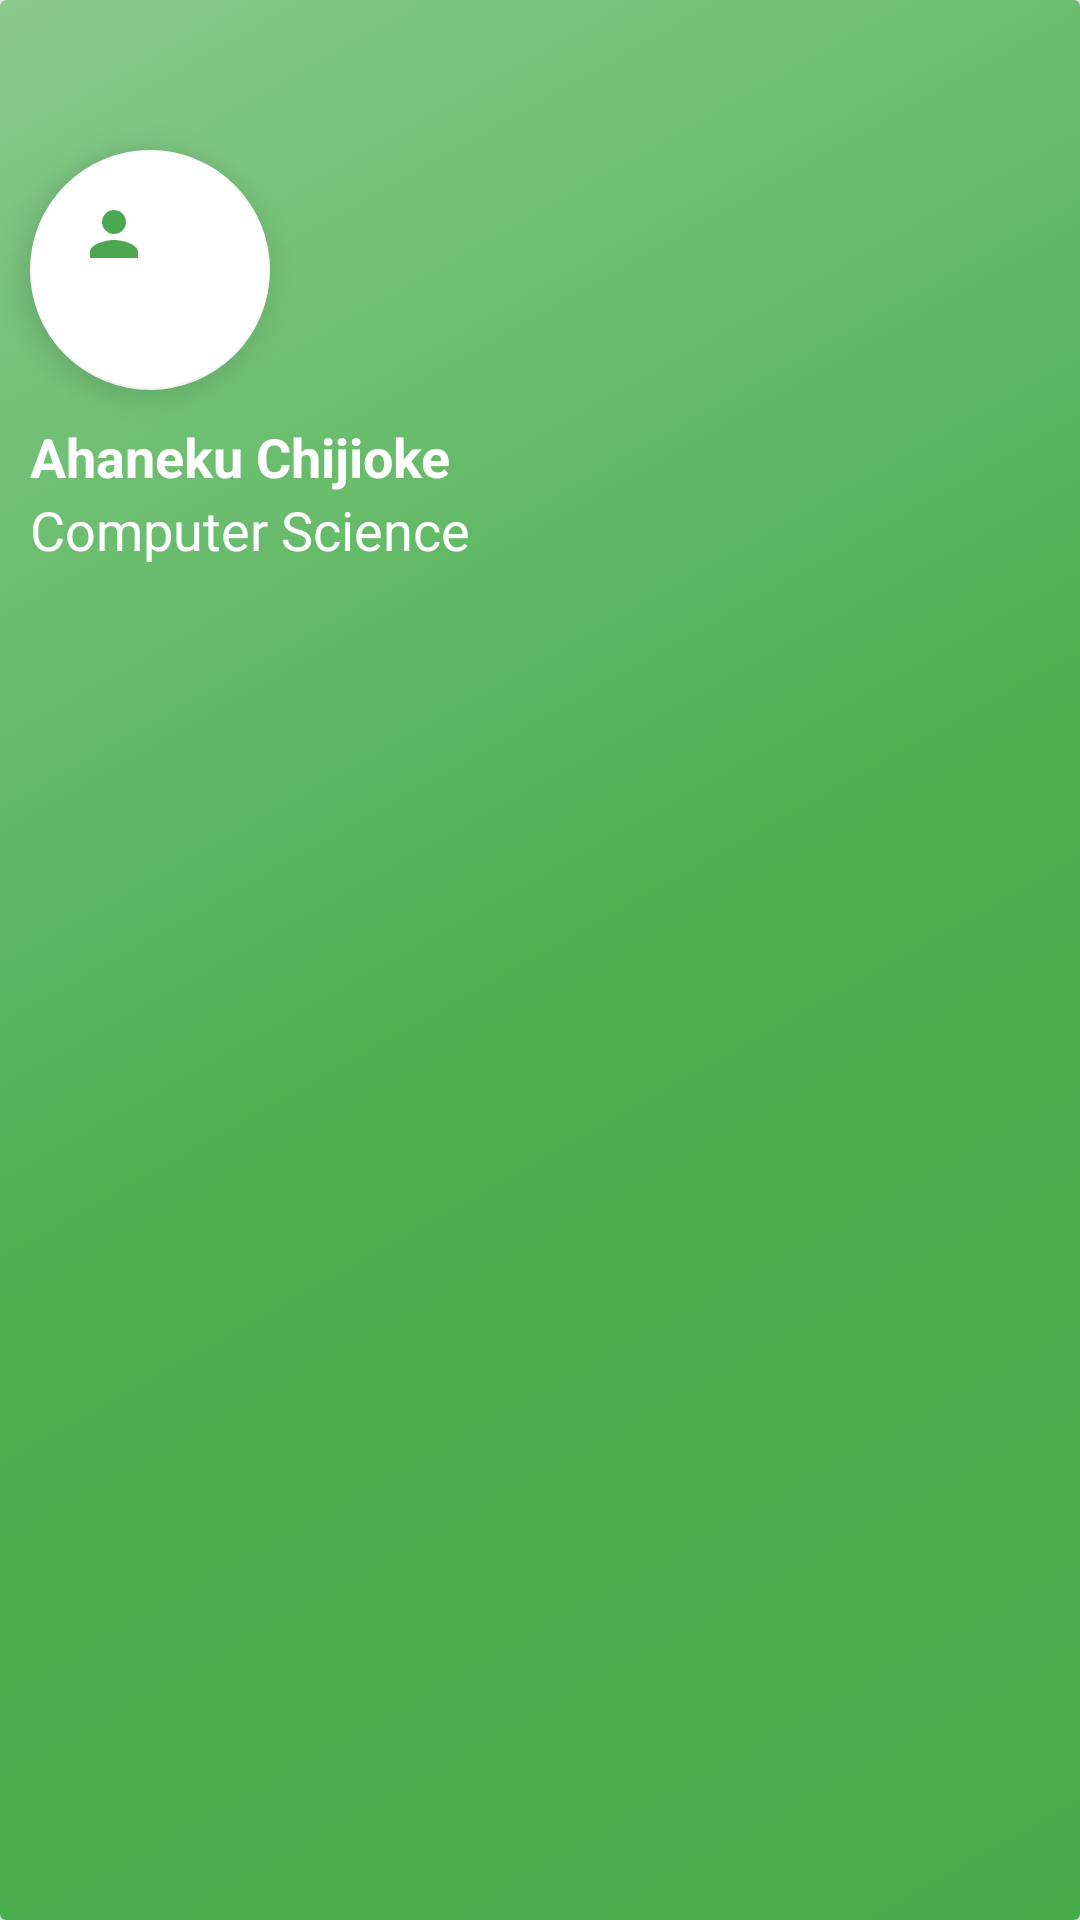

Locate icon controls on the screen. Image size 1080px x 1920px, boxes as (x1, y1, x2, y2).
user Image: (30, 150, 270, 390)
